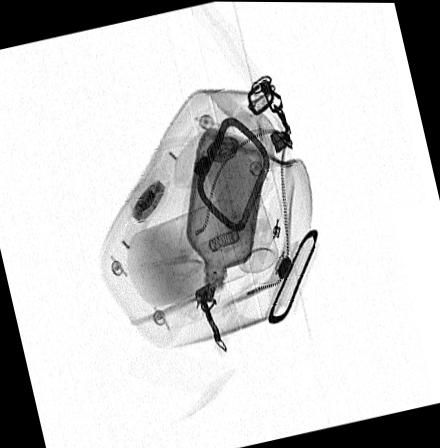Sprayer: (203, 115, 277, 274)
